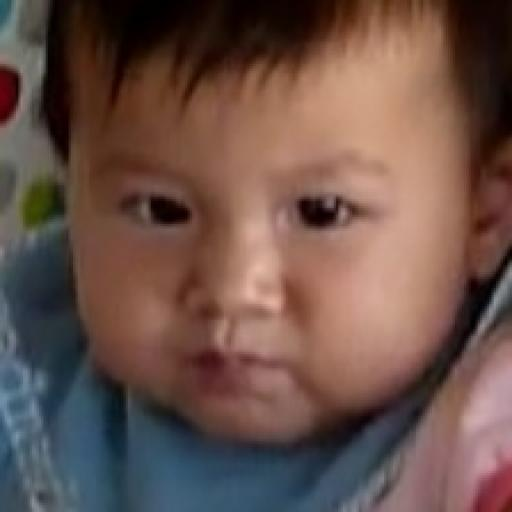Autism: (23, 47, 512, 440)
